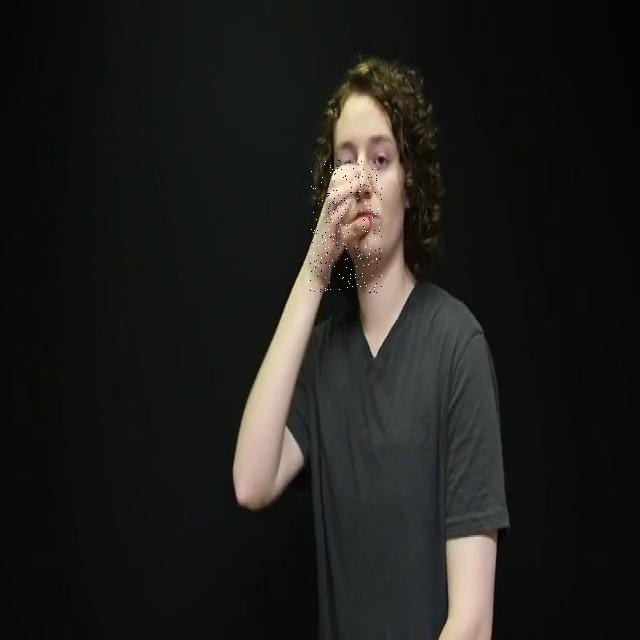drink: (310, 160, 382, 293)
